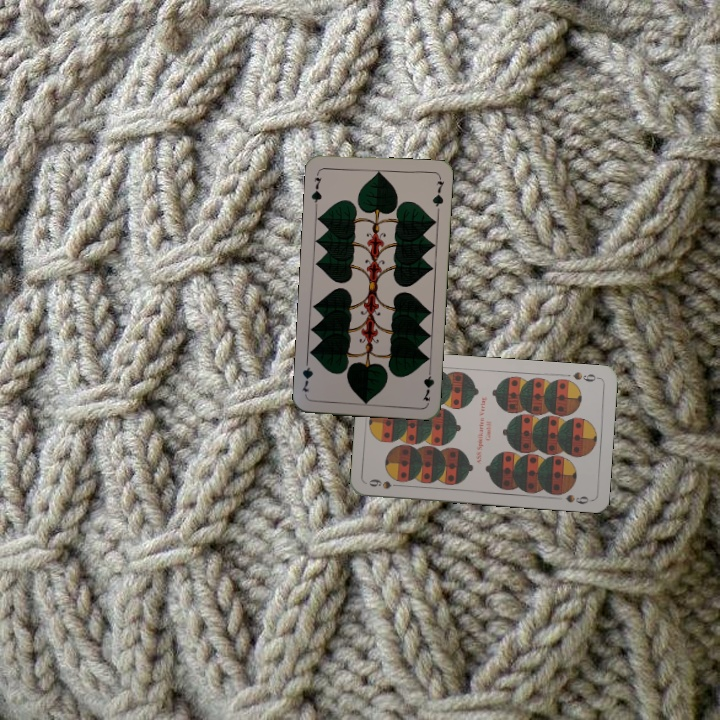G7: (418, 363, 437, 404), (307, 173, 324, 209)
S9: (365, 474, 405, 492), (569, 368, 602, 384)
